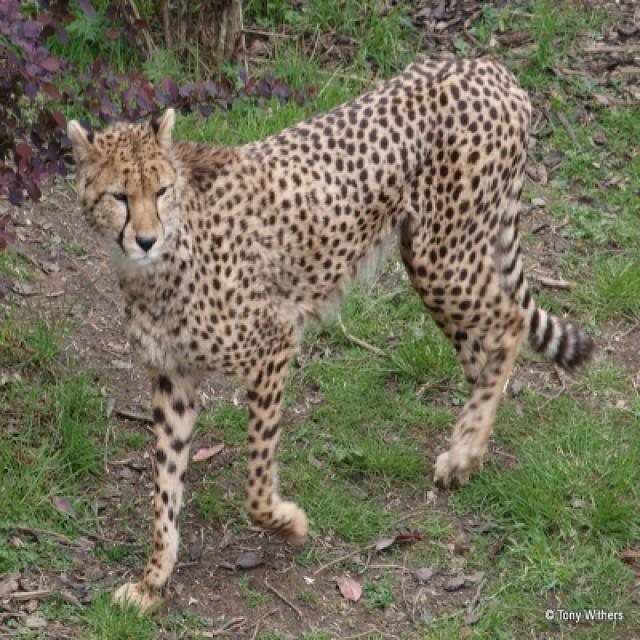Cheetah: (72, 57, 597, 611)
